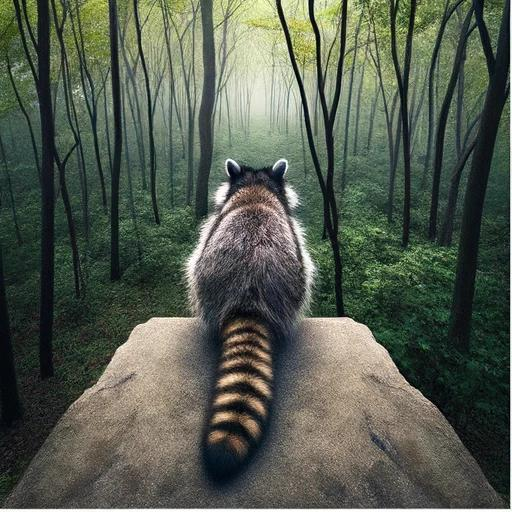raccoon: (175, 151, 325, 498)
